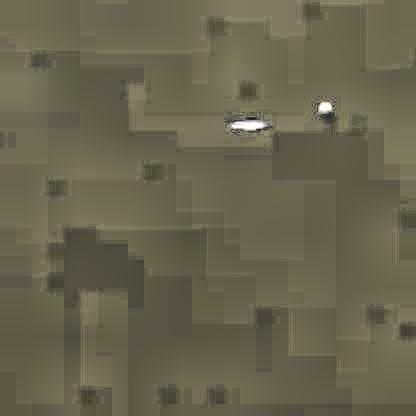golfball: (318, 99, 330, 113)
